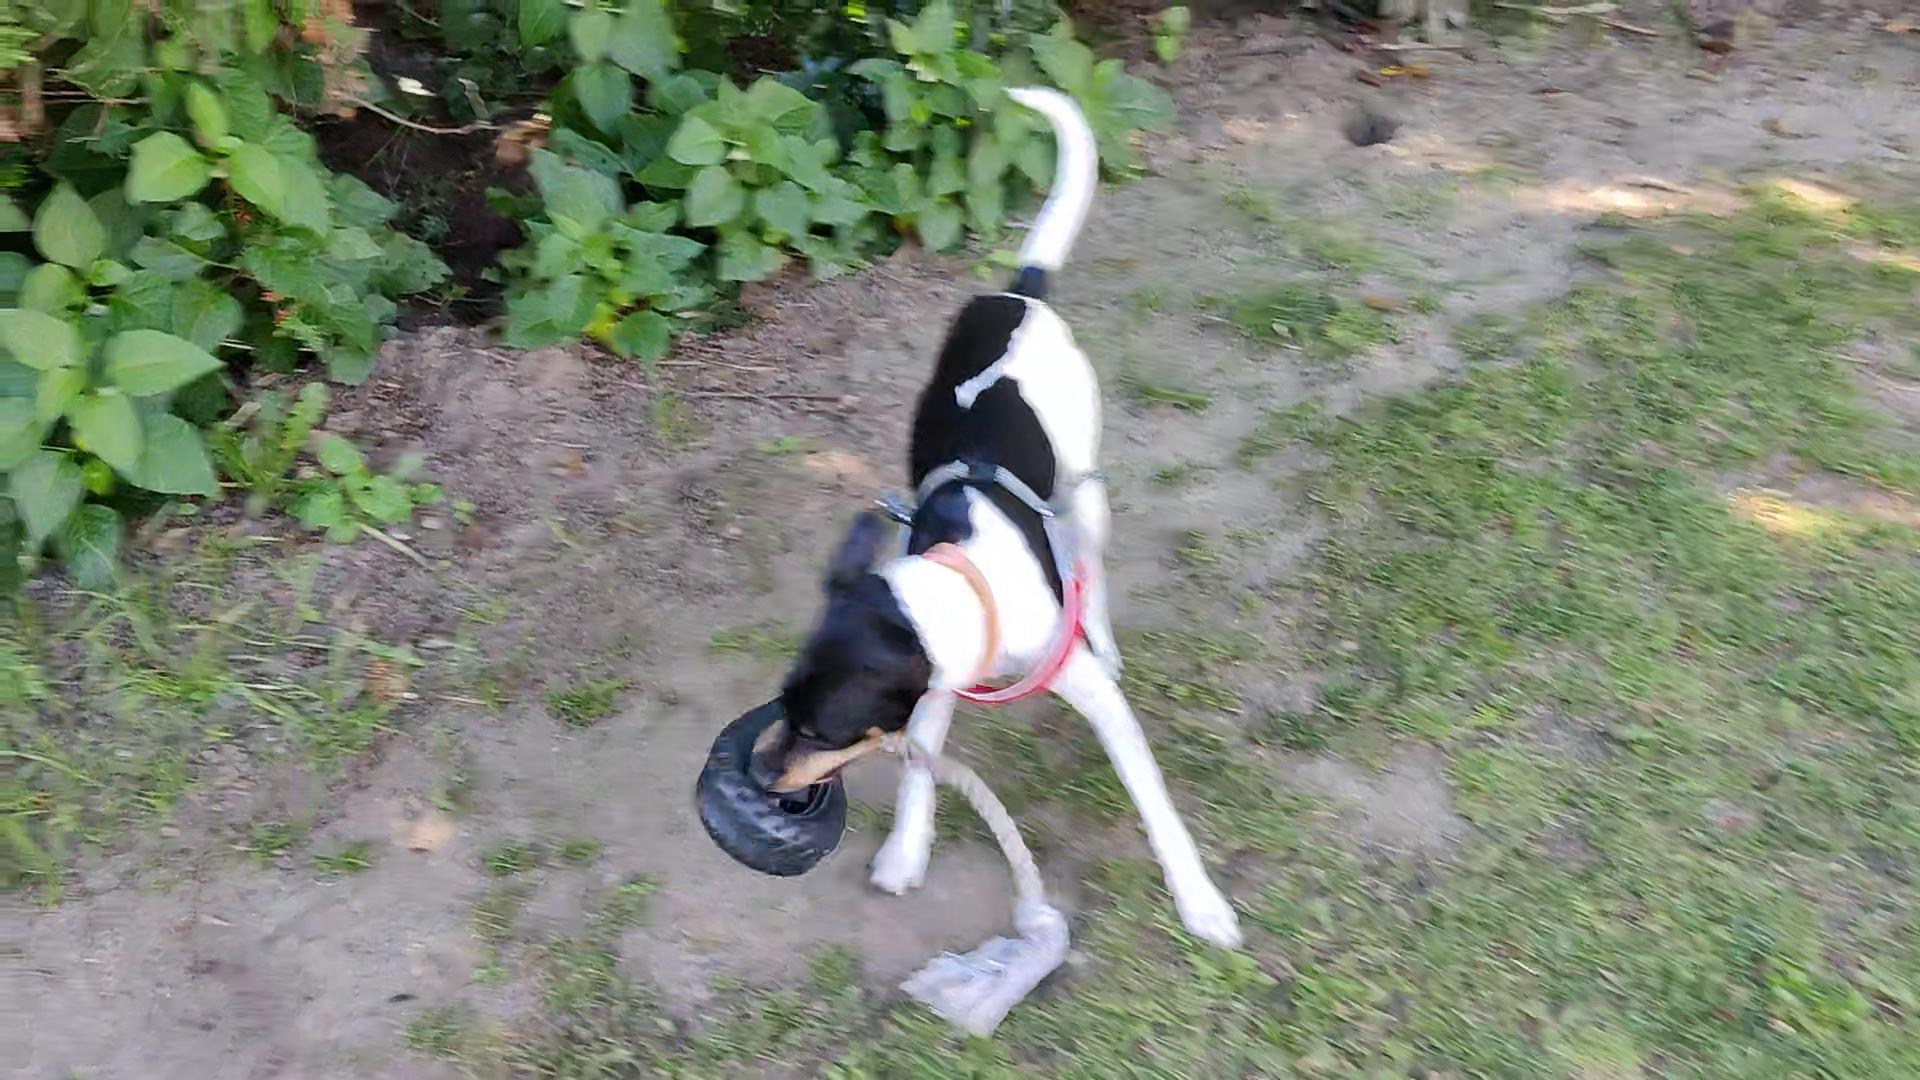Dog: (732, 67, 1267, 978)
